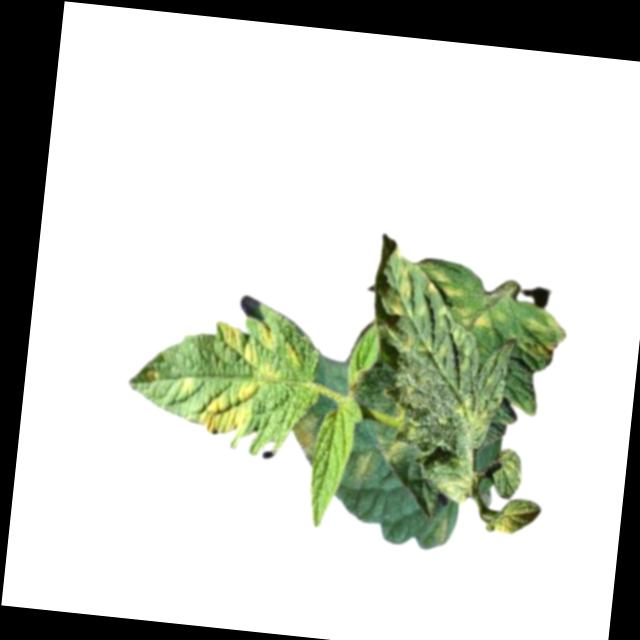Leaf_Mold: (212, 316, 302, 388), (199, 376, 262, 440), (375, 251, 427, 322), (517, 310, 567, 361), (451, 387, 497, 435), (487, 497, 538, 539), (451, 297, 504, 332), (291, 413, 324, 466), (431, 266, 469, 299), (379, 435, 410, 467), (352, 450, 380, 481)
